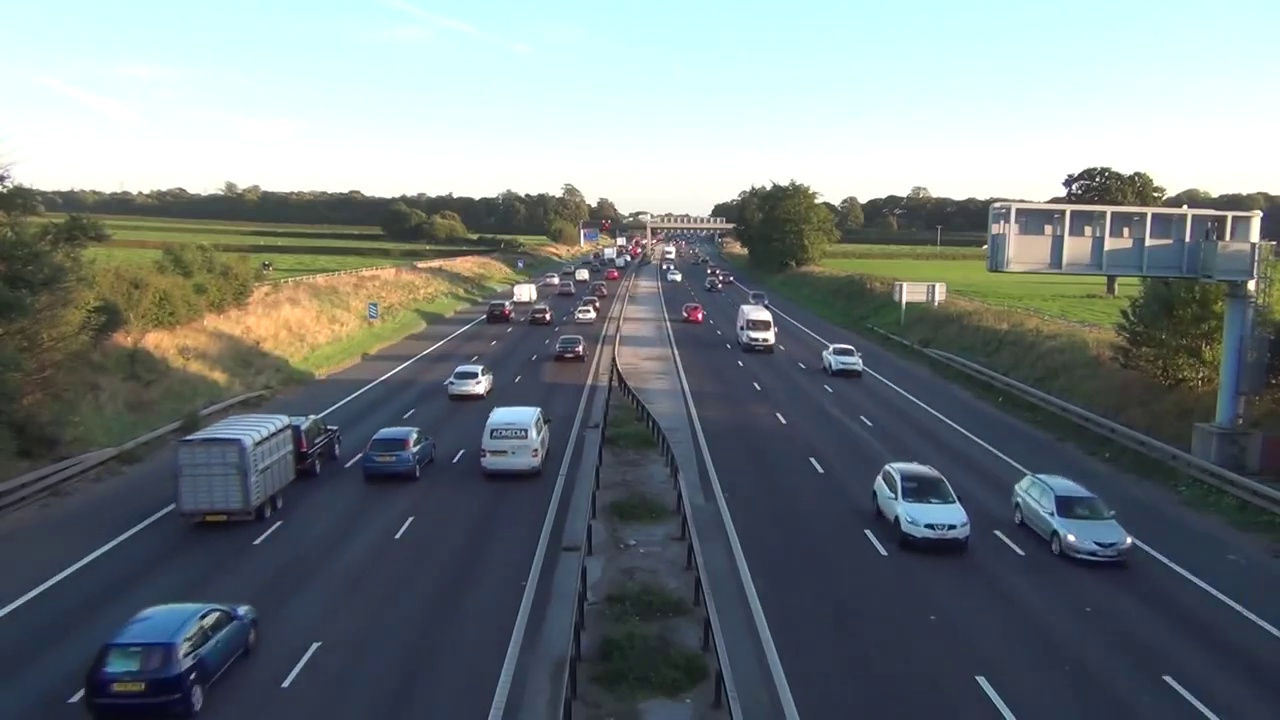bus: (84, 600, 263, 720), (1012, 473, 1134, 565), (872, 460, 972, 551), (363, 426, 437, 480), (287, 414, 343, 478), (447, 364, 495, 399), (821, 342, 864, 378), (555, 334, 588, 362), (487, 301, 516, 321), (680, 302, 705, 323), (529, 305, 553, 325), (574, 306, 596, 323), (748, 291, 770, 308), (556, 279, 576, 296), (704, 276, 723, 293), (590, 280, 607, 297), (582, 296, 600, 310), (666, 269, 683, 283), (574, 268, 590, 282), (544, 272, 560, 285), (719, 272, 734, 284), (706, 264, 721, 276), (604, 268, 618, 280), (662, 261, 675, 271)
car: (480, 405, 553, 477), (735, 304, 779, 354), (513, 282, 539, 303)
